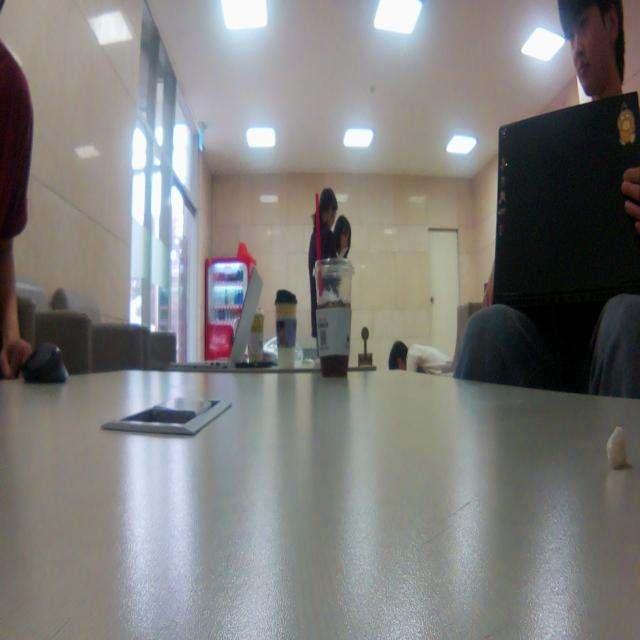target: (358, 327, 373, 366)
